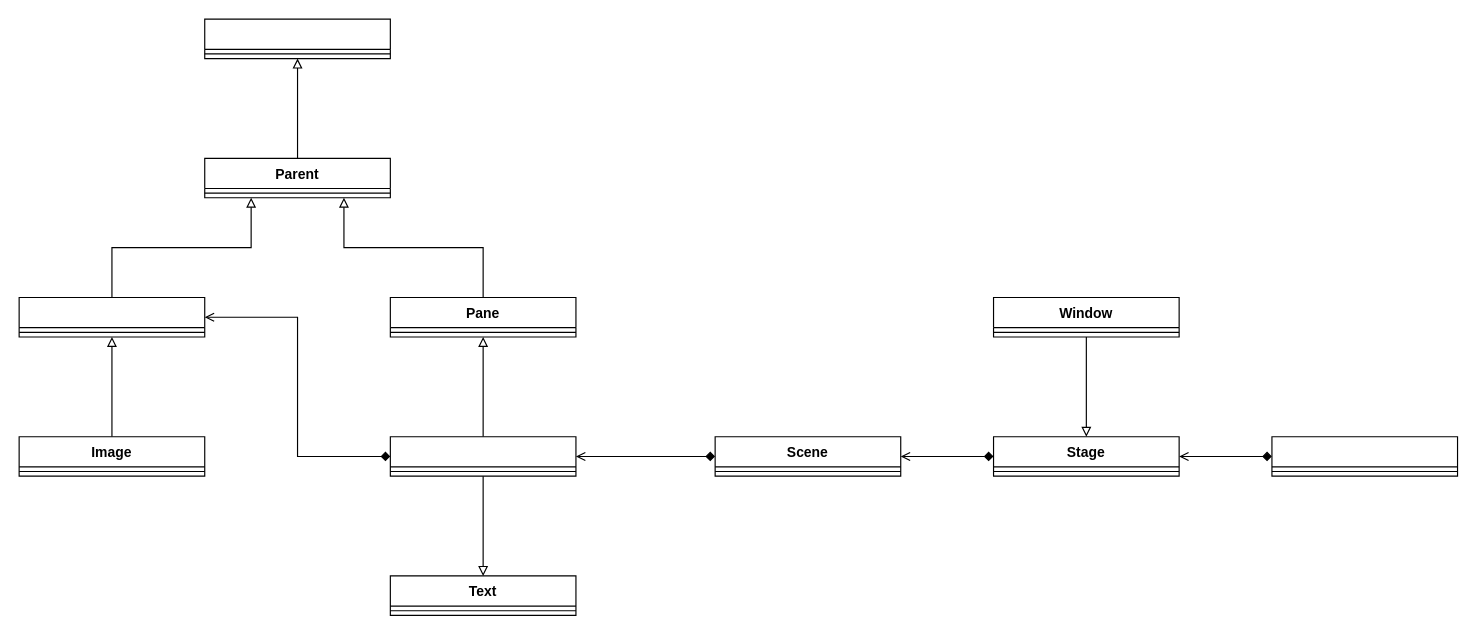
Image size: 1477x635. Some labels were removed from this diagram. Here are the shapes that lost their labels. From the top down, the centre of each, then its label:
(297,38): Node
(111,316): Rectangle
(482,456): AnchorPane
(1364,456): Main
